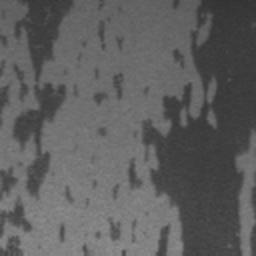Red iron sheet: (111, 0, 256, 256), (0, 0, 124, 256), (82, 0, 125, 51), (82, 216, 127, 256), (64, 184, 73, 204), (59, 223, 67, 241), (97, 127, 109, 137), (142, 86, 151, 95), (91, 179, 99, 187)
